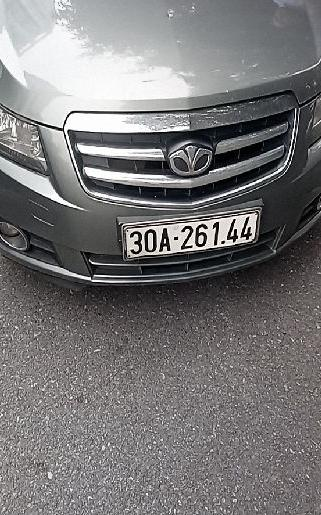Plate-iWeP: (123, 209, 258, 259)
